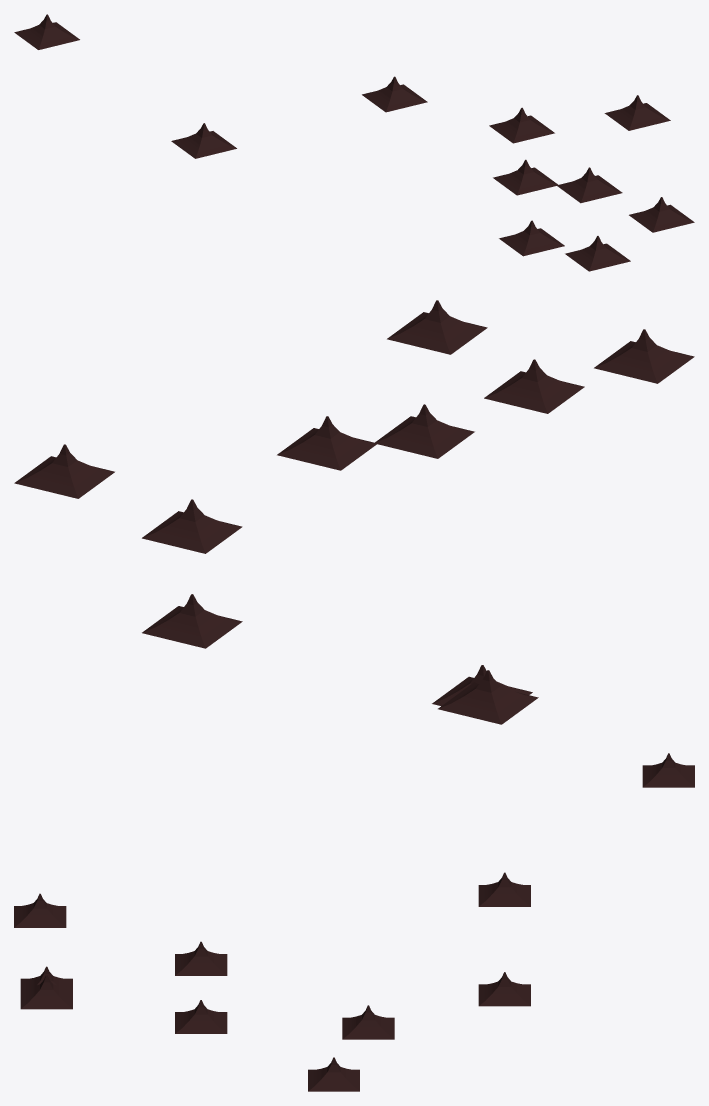
File: object_64_lev2.glb
3 renders of one model, top to bottom at view 1: azimuth 30°, elevation 25°; view 2: azimuth 150°, elevation 25°; view 3: azimuth 270°, elevation 25°, orthographic. The views are drawn at different scales.
Visible parts, largest first — view 1: object_64_lev2; view 2: object_64_lev2; view 3: object_64_lev2.
Boxes of the visible parts, x1=… form: object_64_lev2: x1=14, y1=14, x2=694, y2=271; object_64_lev2: x1=14, y1=300, x2=694, y2=724; object_64_lev2: x1=14, y1=753, x2=694, y2=1091.
Size of the model in its own units: 62.02 by 11.66 by 71.71.
